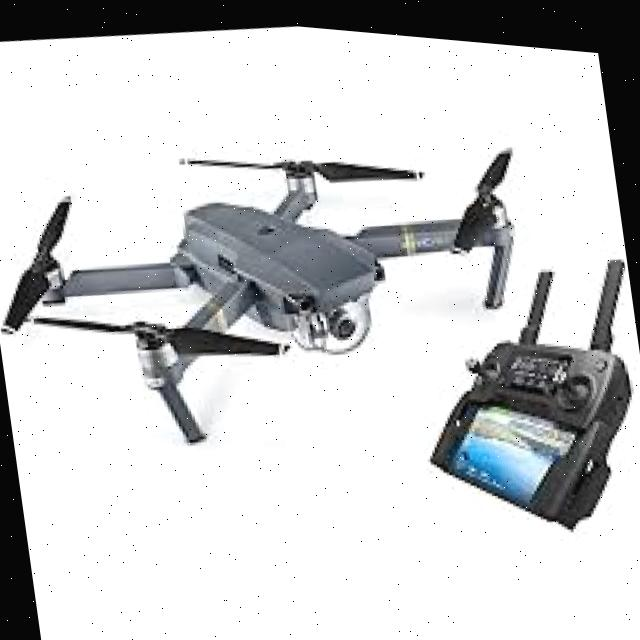drone: (0, 72, 564, 509)
